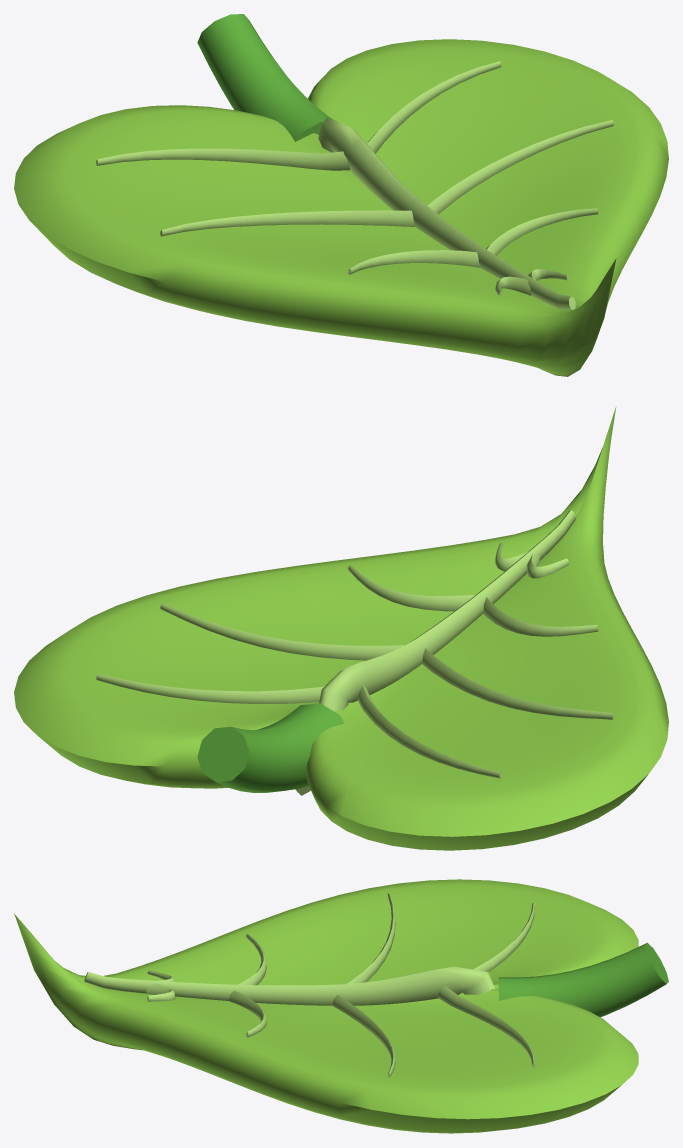
File: giant_leaf.glb
3 views of the same model, one above another, from view 1: azimuth 30°, elevation 25°; view 2: azimuth 150°, elevation 25°; view 3: azimuth 270°, elevation 25° (orthographic). The views are drawn at different scales.
Visible parts, largest first — view 1: giant_leaf; view 2: giant_leaf; view 3: giant_leaf.
Boxes of the visible parts, box(x1,y1,x2,y2) form: giant_leaf: box(14, 14, 668, 376); giant_leaf: box(14, 406, 668, 850); giant_leaf: box(14, 879, 668, 1133).
Bounding box in the file's own units: 3.38 × 1 × 4.
